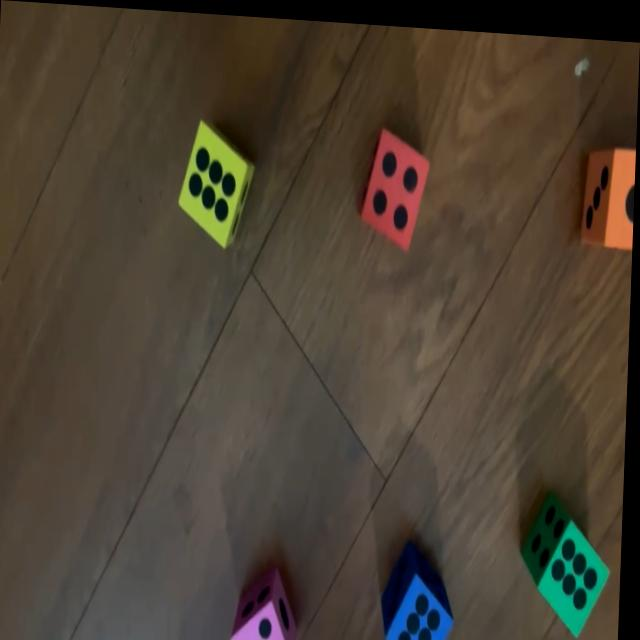cube: (524, 487, 618, 632), (361, 123, 431, 245), (385, 536, 459, 640)
